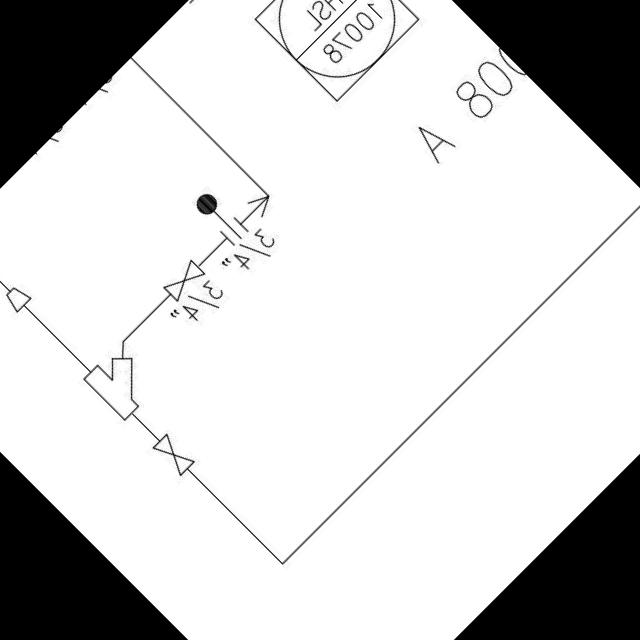GV: (142, 424, 200, 483), (156, 252, 210, 306)
SP: (0, 274, 37, 315)
